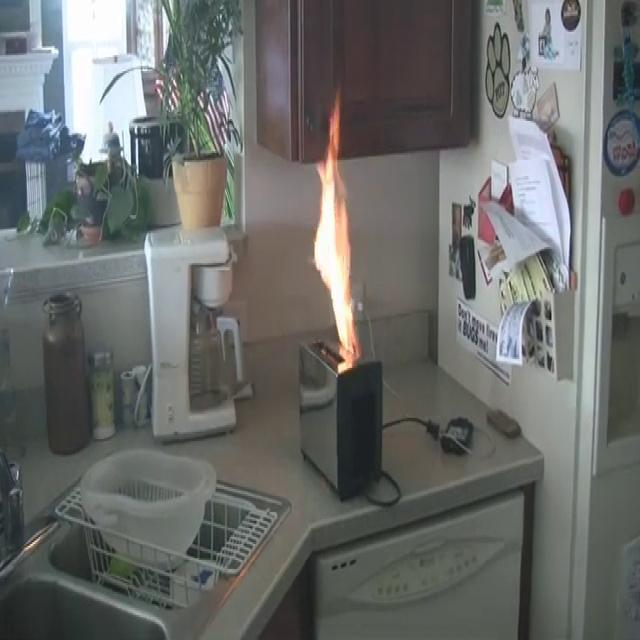fire: (290, 93, 369, 378)
